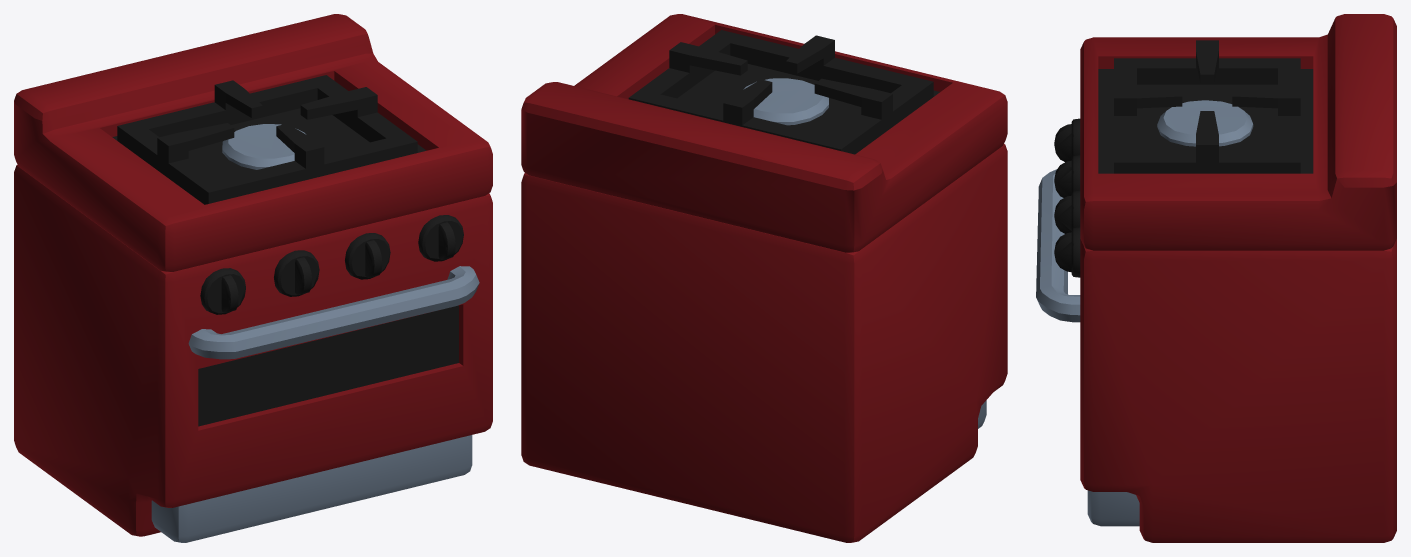
Rendered from oven.glb.
3 views of the same model, side by side, from view 1: azimuth 30°, elevation 25°; view 2: azimuth 150°, elevation 25°; view 3: azimuth 270°, elevation 25° (orthographic). The views are drawn at different scales.
Visible parts, largest first — view 1: Environment_Oven; view 2: Environment_Oven; view 3: Environment_Oven.
Part boxes in pixels (left/top/right/bottom): Environment_Oven: left=14, top=14, right=492, bottom=542; Environment_Oven: left=521, top=14, right=1007, bottom=542; Environment_Oven: left=1036, top=14, right=1396, bottom=542.
Size of the model in its own units: 2.14 by 2.23 by 1.96.
